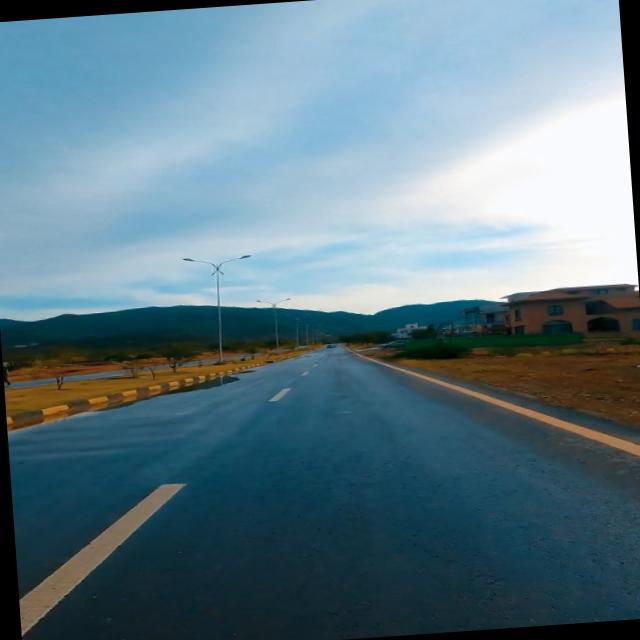asphalt: (7, 345, 640, 640)
grass: (380, 345, 640, 426), (4, 363, 243, 416)
